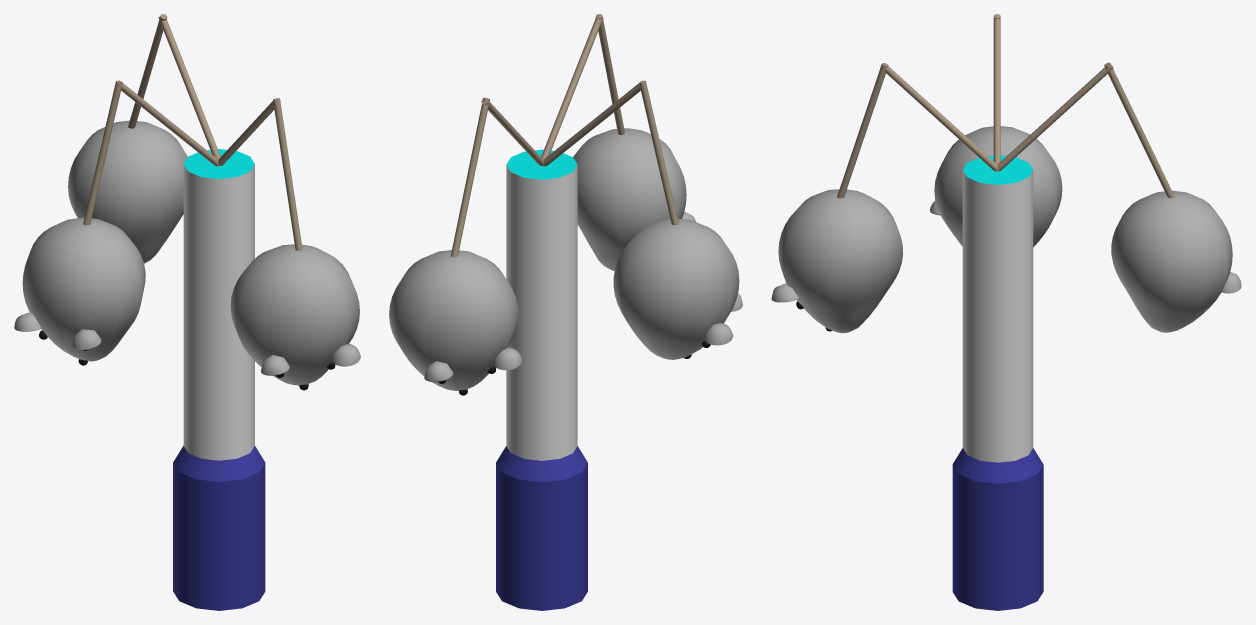
Rendered from Cattoy.fbx.
3 renders of one model, left to right at view 1: azimuth 30°, elevation 25°; view 2: azimuth 150°, elevation 25°; view 3: azimuth 270°, elevation 25°, orthographic.
Visible parts, largest first — view 1: pCylinder5, pSphere29, pSphere23, pSphere3, pCylinder10, pCylinder7, pCylinder9, pCylinder8, pCylinder11, pCylinder6, pSphere32, pSphere26 (+1 smaller); view 2: pCylinder5, pSphere23, pSphere3, pSphere29, pCylinder11, pCylinder6, pCylinder9, pCylinder8, pCylinder10, pCylinder7, pSphere27, pSphere21; view 3: pCylinder5, pSphere29, pSphere3, pSphere23, pCylinder8, pCylinder6, pCylinder7, pCylinder11, pCylinder10.
Part boxes in pixels (x1,y1,x2,y2): pCylinder5: [173, 149, 265, 610]; pSphere29: [230, 244, 359, 385]; pSphere23: [22, 217, 145, 361]; pSphere3: [68, 120, 187, 263]; pCylinder10: [273, 98, 302, 250]; pCylinder7: [158, 16, 220, 159]; pCylinder9: [83, 80, 122, 225]; pCylinder8: [119, 80, 219, 166]; pCylinder11: [128, 14, 167, 128]; pCylinder6: [218, 98, 280, 165]; pSphere32: [332, 343, 360, 366]; pSphere26: [72, 329, 101, 350]; pCylinder5: [496, 149, 587, 610]; pSphere23: [613, 218, 739, 359]; pSphere3: [389, 250, 518, 390]; pSphere29: [573, 128, 686, 270]; pCylinder11: [451, 97, 489, 257]; pCylinder6: [541, 15, 603, 159]; pCylinder9: [639, 80, 678, 224]; pCylinder8: [543, 80, 643, 166]; pCylinder10: [595, 14, 624, 134]; pCylinder7: [481, 99, 543, 165]; pSphere27: [704, 322, 733, 345]; pSphere21: [494, 347, 521, 370]; pCylinder5: [952, 155, 1043, 610]; pSphere29: [778, 189, 903, 333]; pSphere3: [1111, 190, 1232, 332]; pSphere23: [934, 126, 1062, 247]; pCylinder8: [993, 16, 1000, 164]; pCylinder6: [882, 63, 998, 171]; pCylinder7: [995, 64, 1113, 171]; pCylinder11: [1104, 62, 1174, 198]; pCylinder10: [837, 63, 888, 198].
Size of the model in its own units: 1.42 by 2.87 by 2.31.
